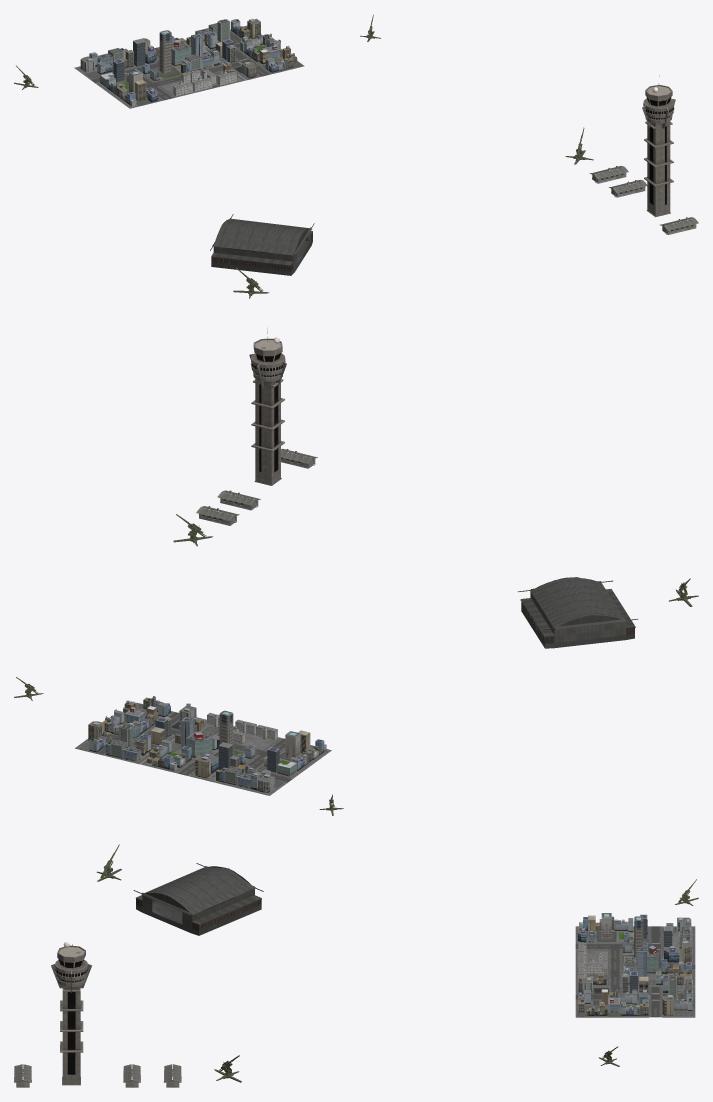
File: Tokyo.glb
3 renders of one model, top to bottom at view 1: azimuth 30°, elevation 25°; view 2: azimuth 150°, elevation 25°; view 3: azimuth 270°, elevation 25°, orthographic. The views are drawn at different scales.
Parts seen in each view (by area): view 1: Object_34, Object_2, Tower_AirTower01MAT_0; view 2: Object_34, Object_2, Tower_AirTower01MAT_0; view 3: Object_34, Object_2, Tower_AirTower01MAT_0, Object_2.003, Object_2.001, Object_2.002.
Boxes of the visible parts, <box> form: Object_34: <box>74,18,304,108</box>; Object_2: <box>210,214,314,275</box>; Tower_AirTower01MAT_0: <box>642,75,675,217</box>; Object_34: <box>75,696,331,795</box>; Object_2: <box>518,577,637,648</box>; Tower_AirTower01MAT_0: <box>249,327,286,485</box>; Object_34: <box>575,913,695,1017</box>; Object_2: <box>133,863,263,935</box>; Tower_AirTower01MAT_0: <box>51,942,92,1085</box>; Object_2.003: <box>163,1064,181,1087</box>; Object_2.001: <box>14,1064,31,1087</box>; Object_2.002: <box>123,1064,140,1087</box>.
Size of the model in its own units: 202 by 64.79 by 267.
14 materials, 6 textured.
